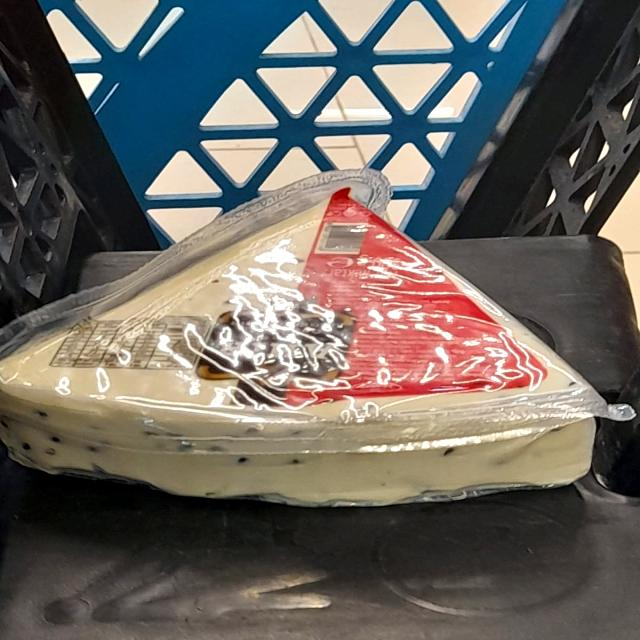cheese: (17, 188, 604, 512)
